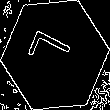L_SE: (28, 30, 82, 80)
